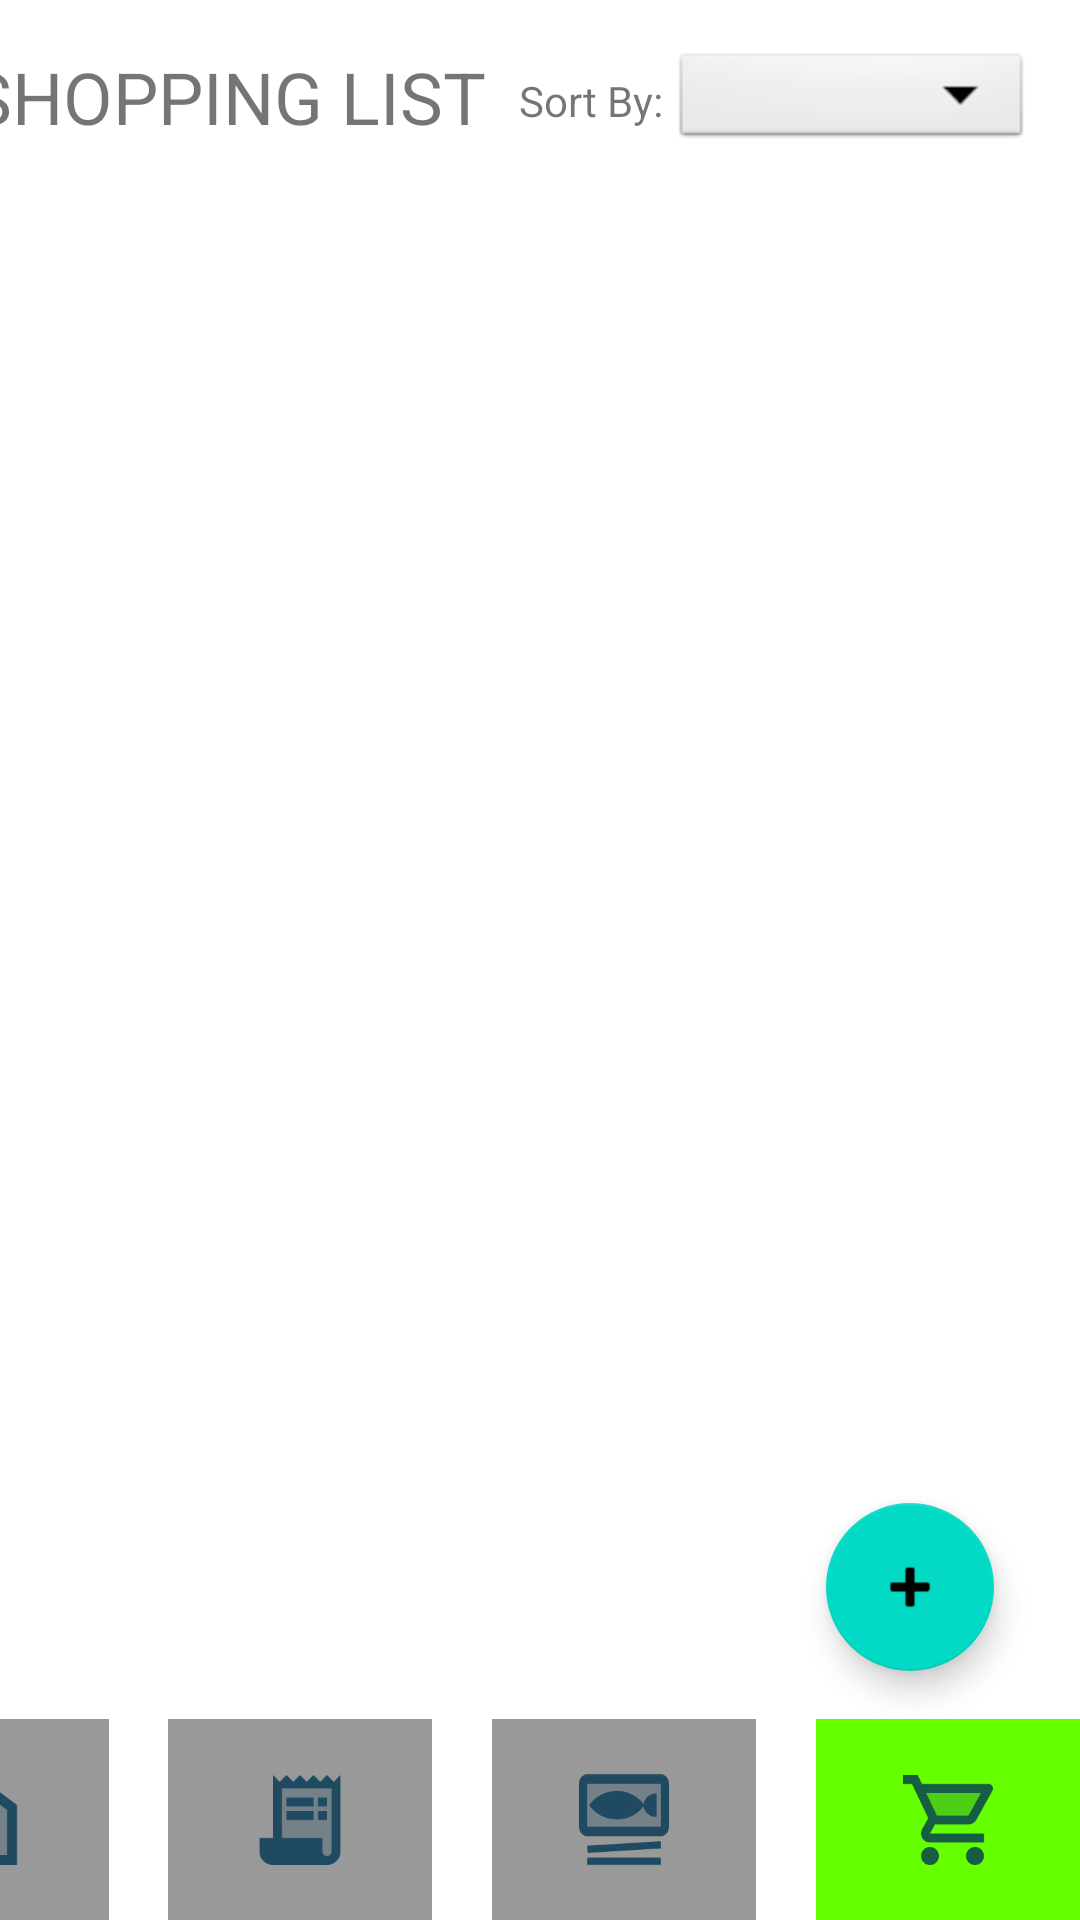

Icon click points for this 1080*1920 phone screenshot, format (x=x, y=y):
Add Item Button: (x=910, y=1587)
Go To Meal Plans: (x=624, y=1819)
Go To Recipes: (x=300, y=1819)
Go To Shopping List: (x=948, y=1819)
